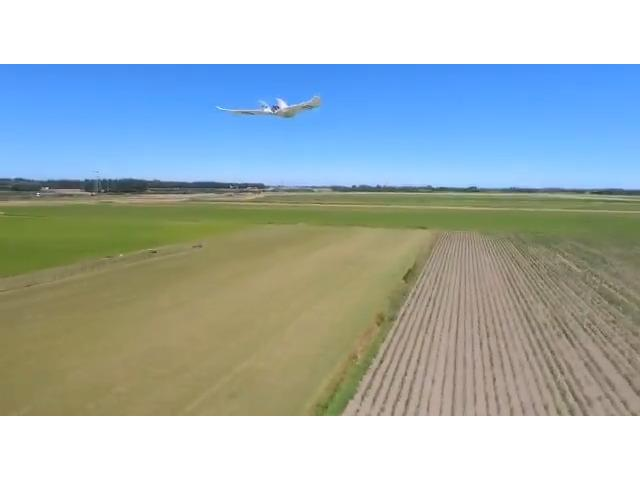Anti-Drone: (204, 82, 354, 130)
